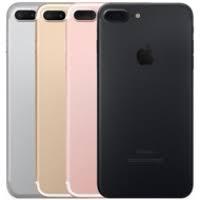iphone: (95, 1, 194, 198)
iphone7: (95, 1, 194, 198)
